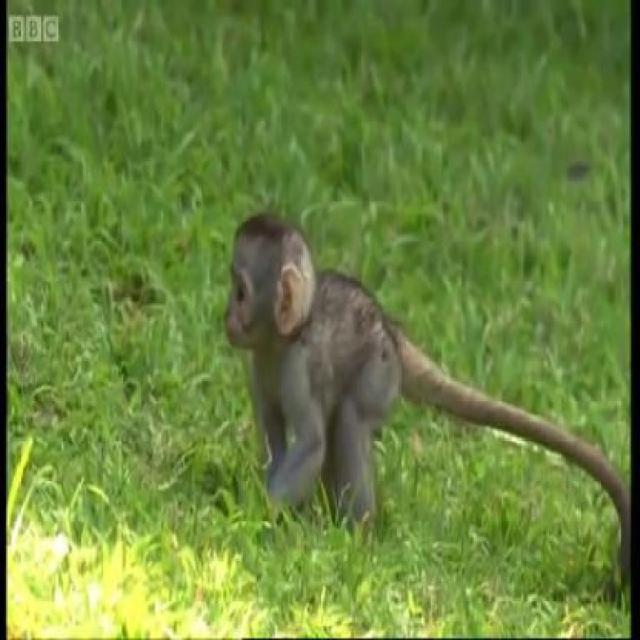Monkey: (205, 194, 564, 535)
